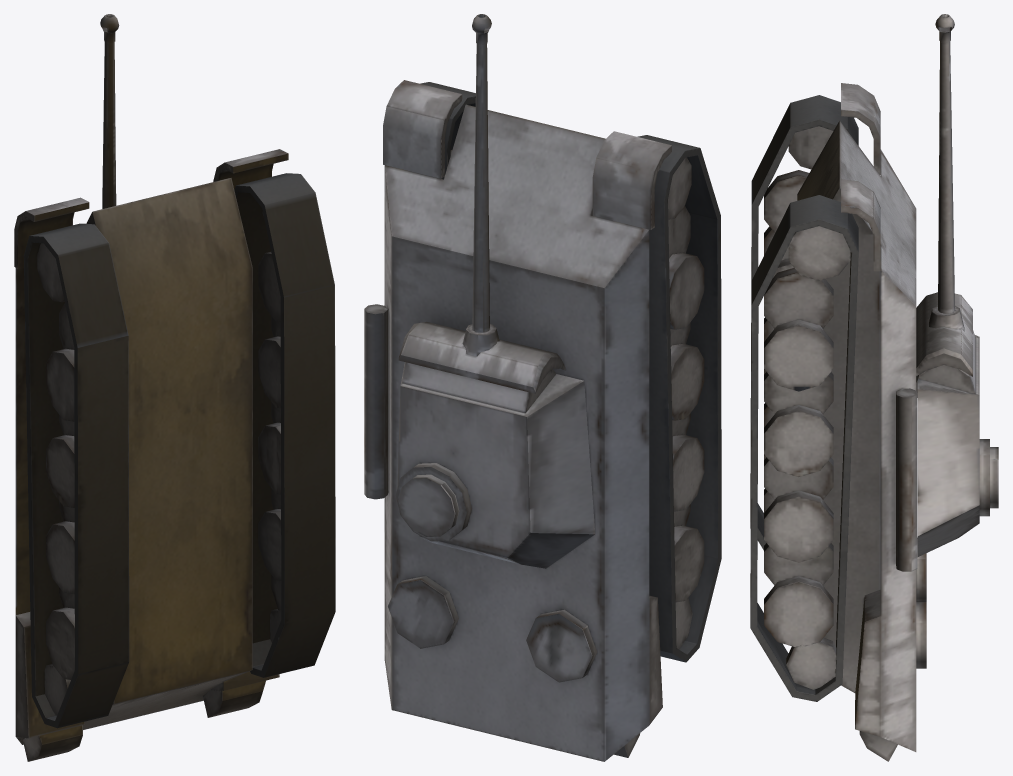
3 views of the same model, side by side, from view 1: azimuth 30°, elevation 25°; view 2: azimuth 150°, elevation 25°; view 3: azimuth 270°, elevation 25° (orthographic). The views are drawn at different scales.
Visible parts, largest first — view 1: VK3002M Body, VK3002M Turret; view 2: VK3002M Body, VK3002M Turret; view 3: VK3002M Body, VK3002M Turret.
Boxes of the visible parts, box(x1,y1,x2,y2) form: VK3002M Body: box(14, 149, 335, 761); VK3002M Turret: box(100, 14, 119, 208); VK3002M Body: box(364, 80, 721, 761); VK3002M Turret: box(395, 14, 595, 568); VK3002M Body: box(750, 83, 926, 761); VK3002M Turret: box(916, 14, 998, 556).
Bounding box in the file's own units: 134 × 345 × 112.
